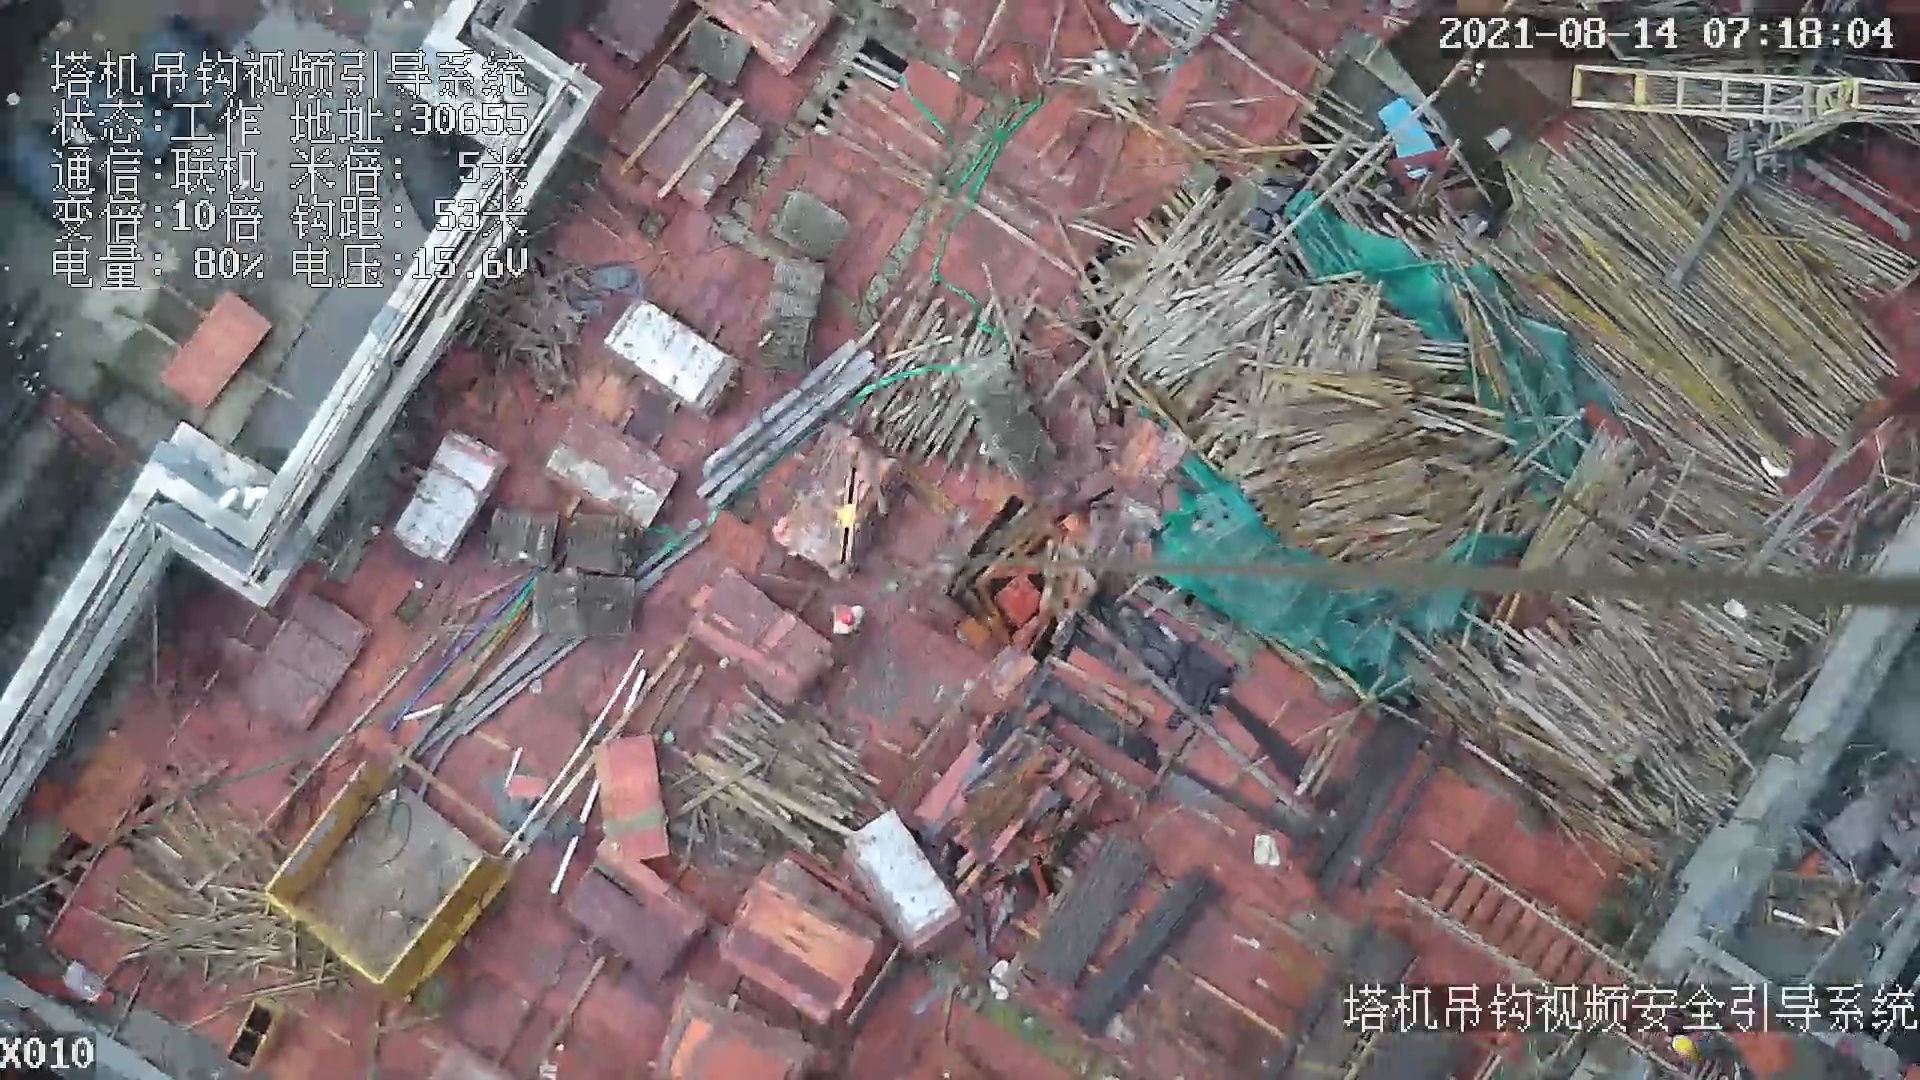helmet: (837, 608, 859, 628)
hook: (817, 462, 862, 569)
person: (823, 596, 867, 635)
